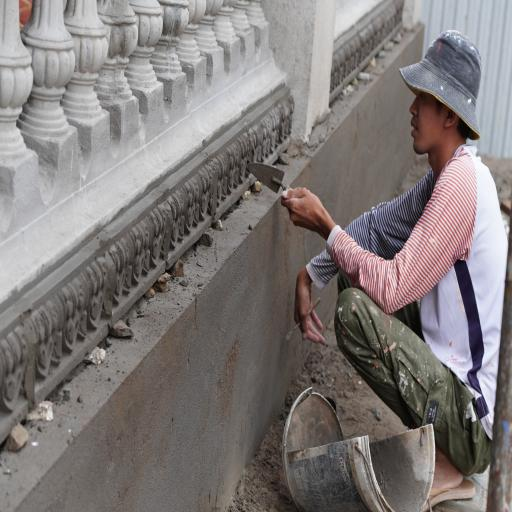la: (1, 326, 29, 416), (27, 302, 59, 376), (55, 279, 85, 350), (100, 240, 134, 300), (78, 259, 108, 326), (124, 226, 154, 280), (144, 209, 167, 264), (191, 165, 212, 217), (177, 174, 196, 228), (233, 129, 252, 182), (162, 196, 183, 240), (218, 146, 237, 194), (211, 154, 228, 204)
